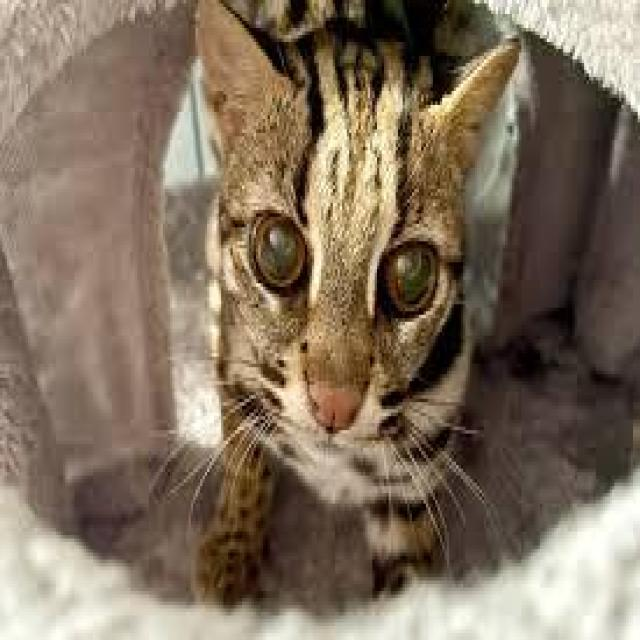leopard: (200, 10, 570, 595)
